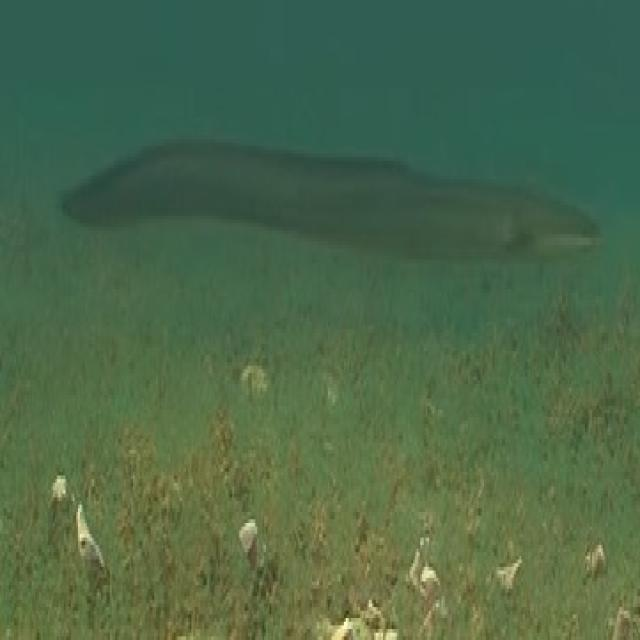Freshwater-Eel: (36, 78, 617, 317)
